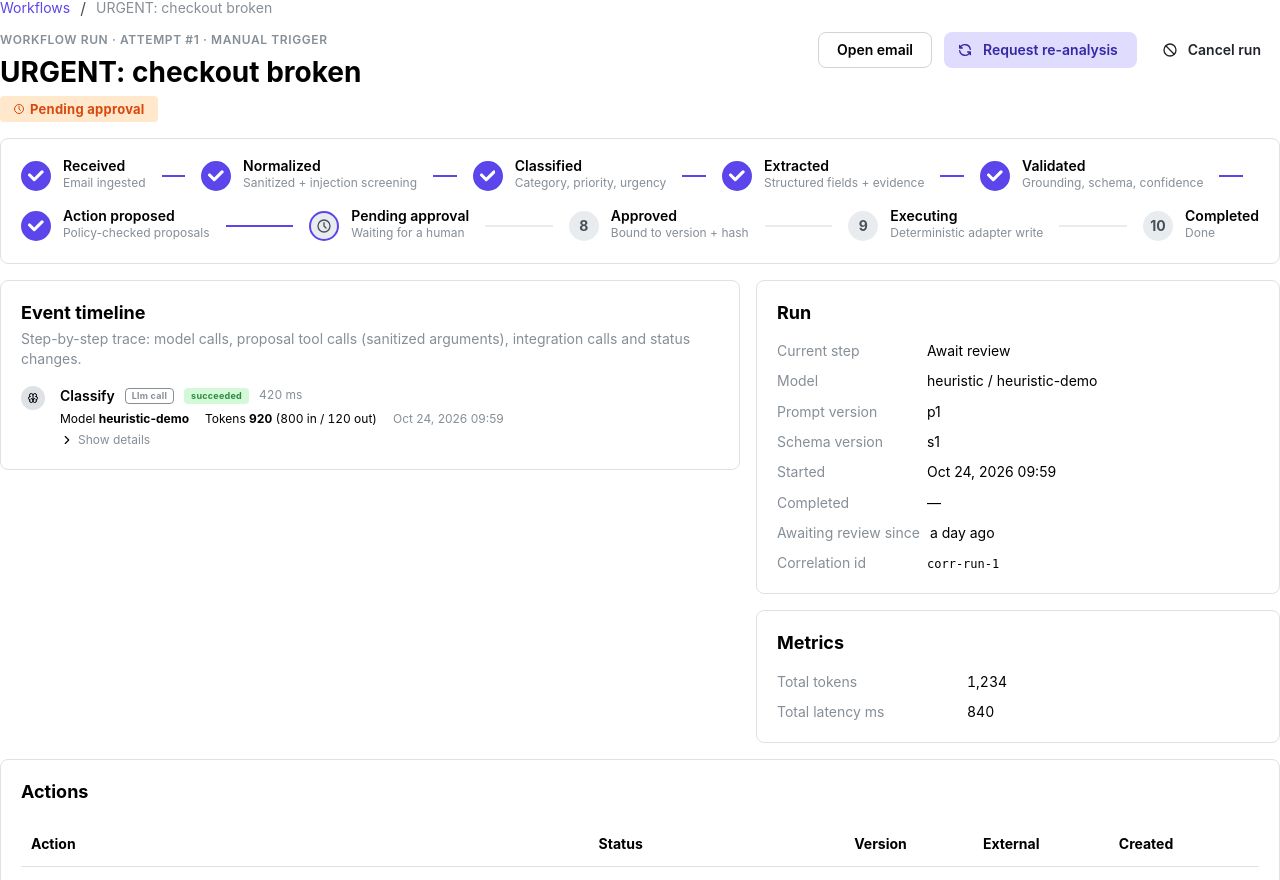
Test: <WorkflowDetailPage> run controls › requests a re-analysis after confirmation
Click the button "Request re-analysis": (1040, 50) x1=944 y1=32 x2=1137 y2=68
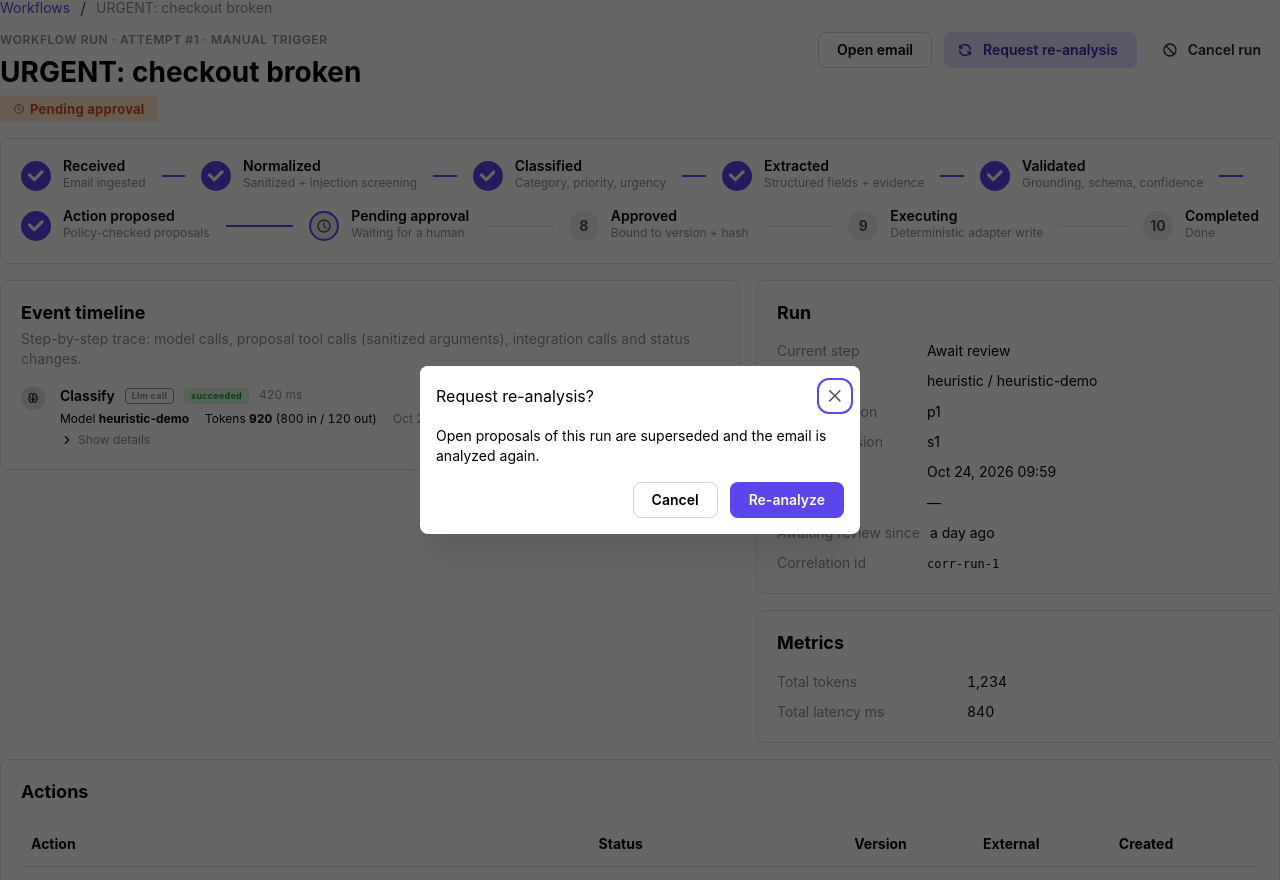
Now the dialog "Request re-analysis?" shows "Open proposals of this run are superseded", box x1=436 y1=427 x2=826 y2=464
Click the button "Re-analyze": (787, 500) x1=730 y1=482 x2=844 y2=518
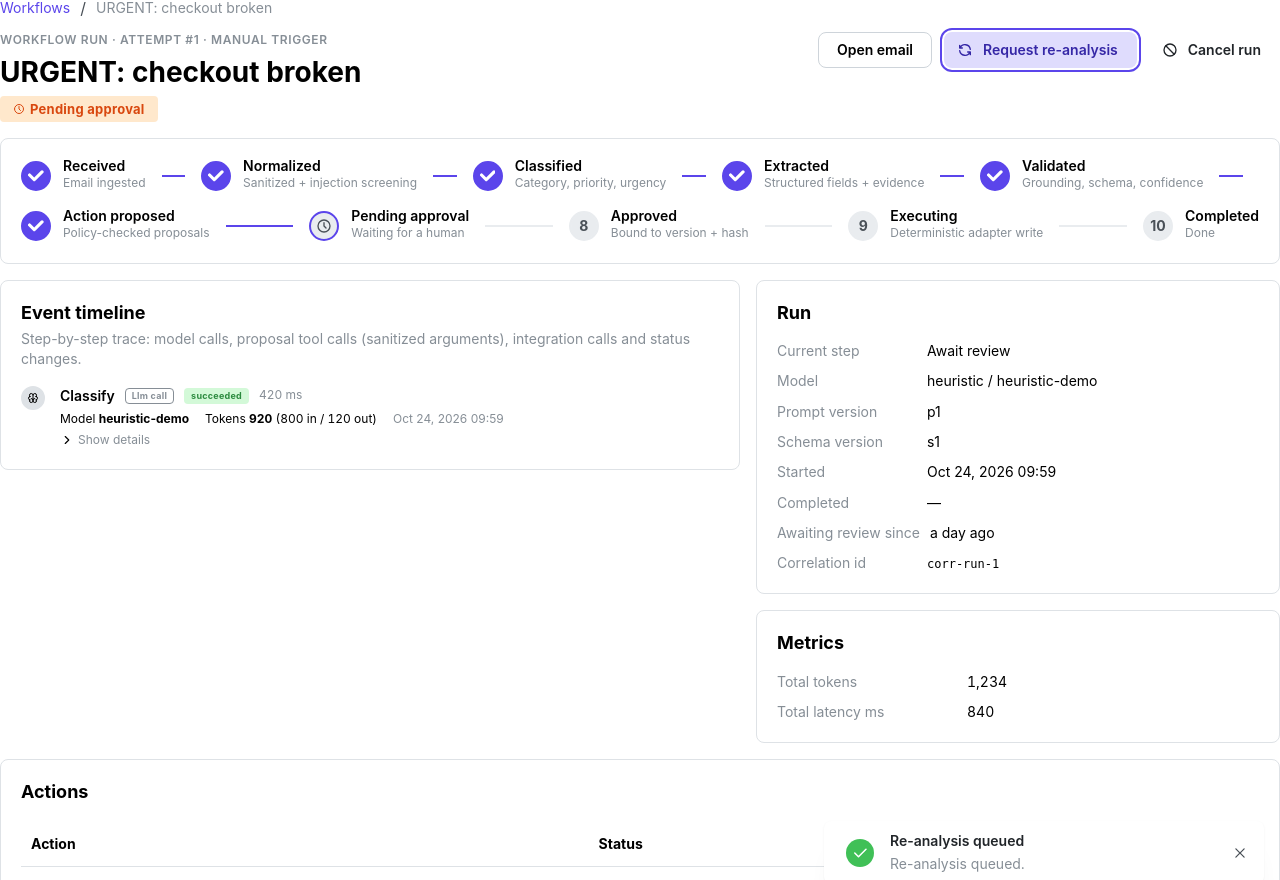
Now the text "Re-analysis queued" is shown, box x1=890 y1=832 x2=1024 y2=849
Now the dialog is gone
